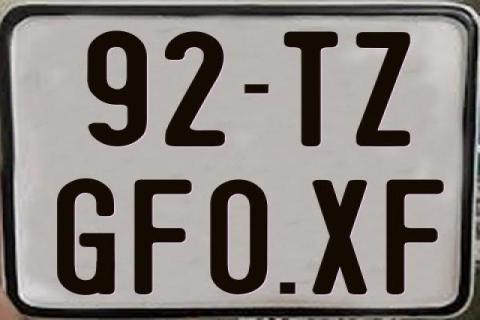0: (164, 30, 230, 150), (84, 28, 147, 146), (208, 178, 266, 298)
F: (134, 180, 196, 298), (386, 177, 446, 293)
G: (57, 177, 115, 297)
T: (283, 29, 341, 147)
X: (310, 179, 368, 296)
Z: (354, 31, 413, 148)
